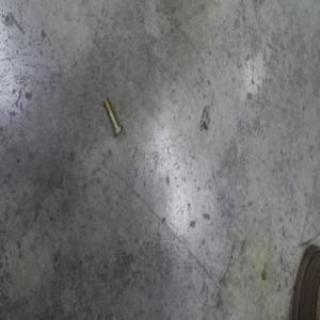Bolttrack_idkeyframe: (101, 97, 121, 140)
